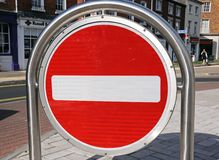No_entry: (44, 22, 170, 151)
